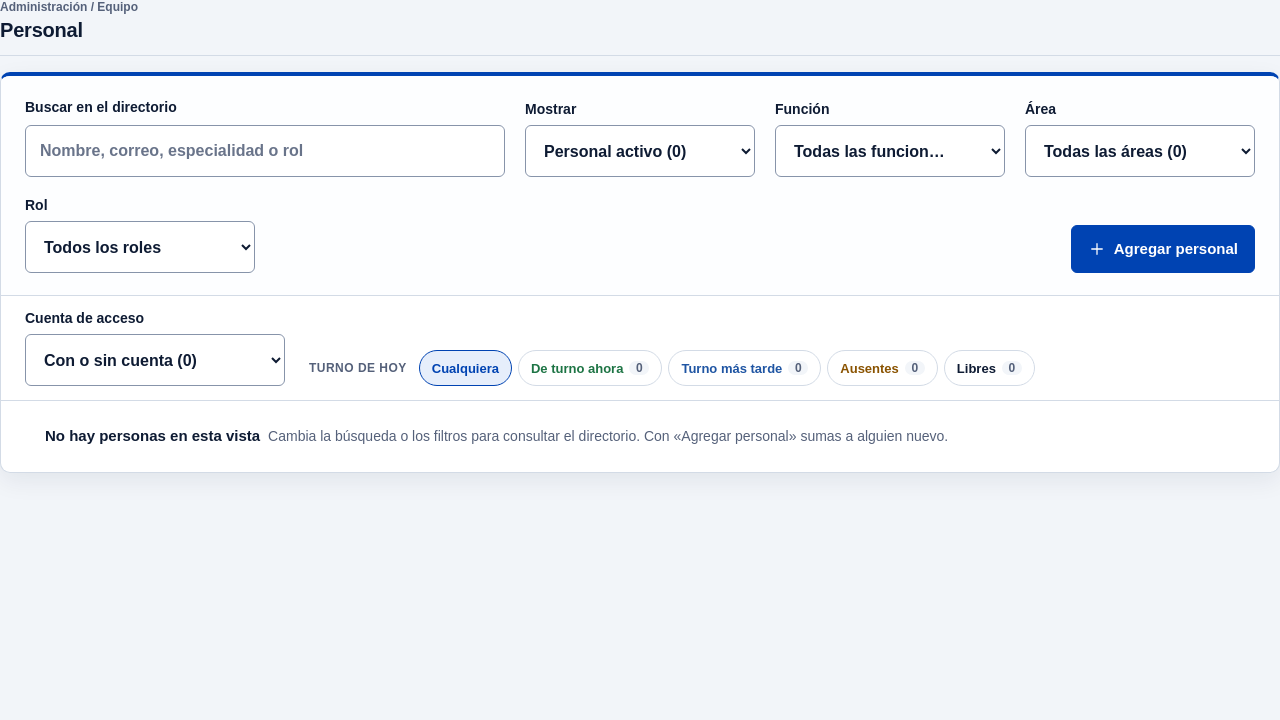
it: G1 · registrar e invitar en un solo acto › cerrar tras el fallo conserva el registro, avisa y la invitación de la fila trae el correo
The image size is (1280, 720).
Step 1. Click the button "Agregar personal" → (1163,249), box [1071,225,1255,273]
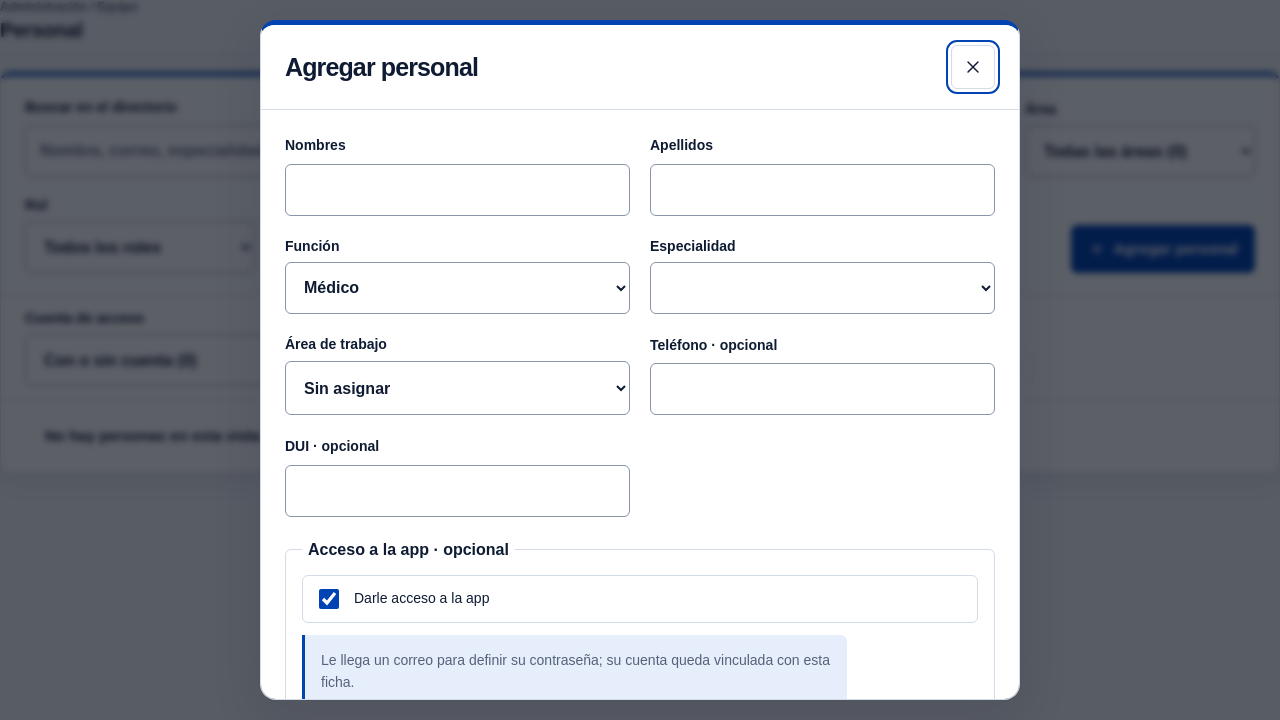
Step 2. Type "Ana" into the field labelled "Nombres" → (458,190), box [285,164,630,216]
Step 3. Type "Pérez Ficticia" into the field labelled "Apellidos" → (822,190), box [650,164,995,216]
(page scrolled)
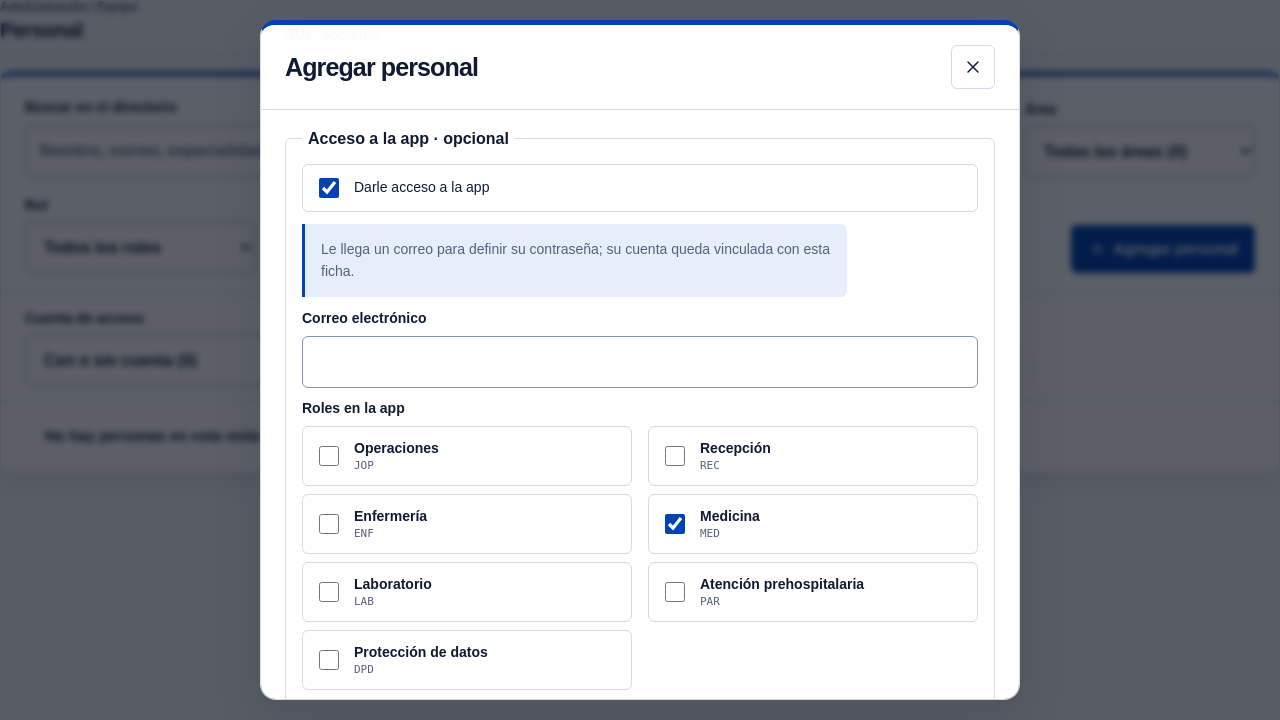
Expected: the checkbox labelled "Darle acceso a la app" is checked, [319,178,339,198]
Step 4. Type "ana@example.test" into the field labelled "Correo electrónico" → (640,362), box [302,336,978,388]
(page scrolled)
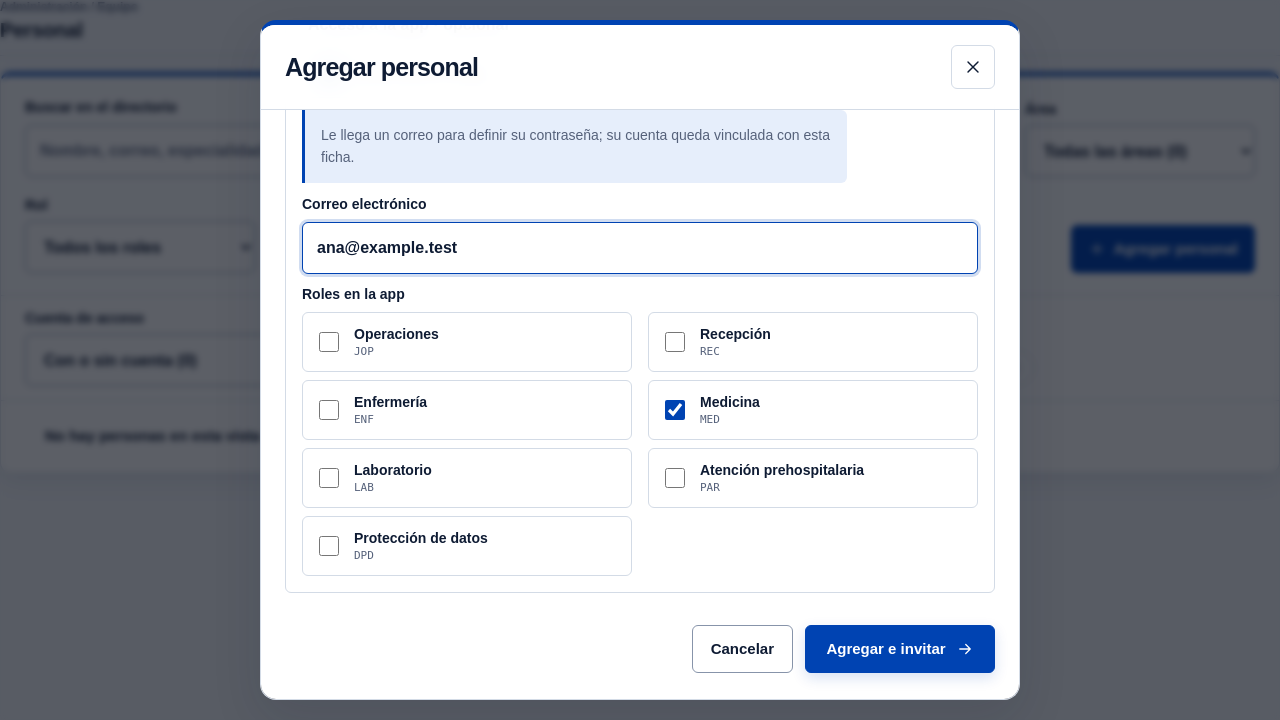
Expected: the checkbox labelled "Medicina MED" is checked, [665,400,685,420]
Step 5. Click the button "Agregar e invitar" → (900,649), box [805,625,995,673]
(page scrolled)
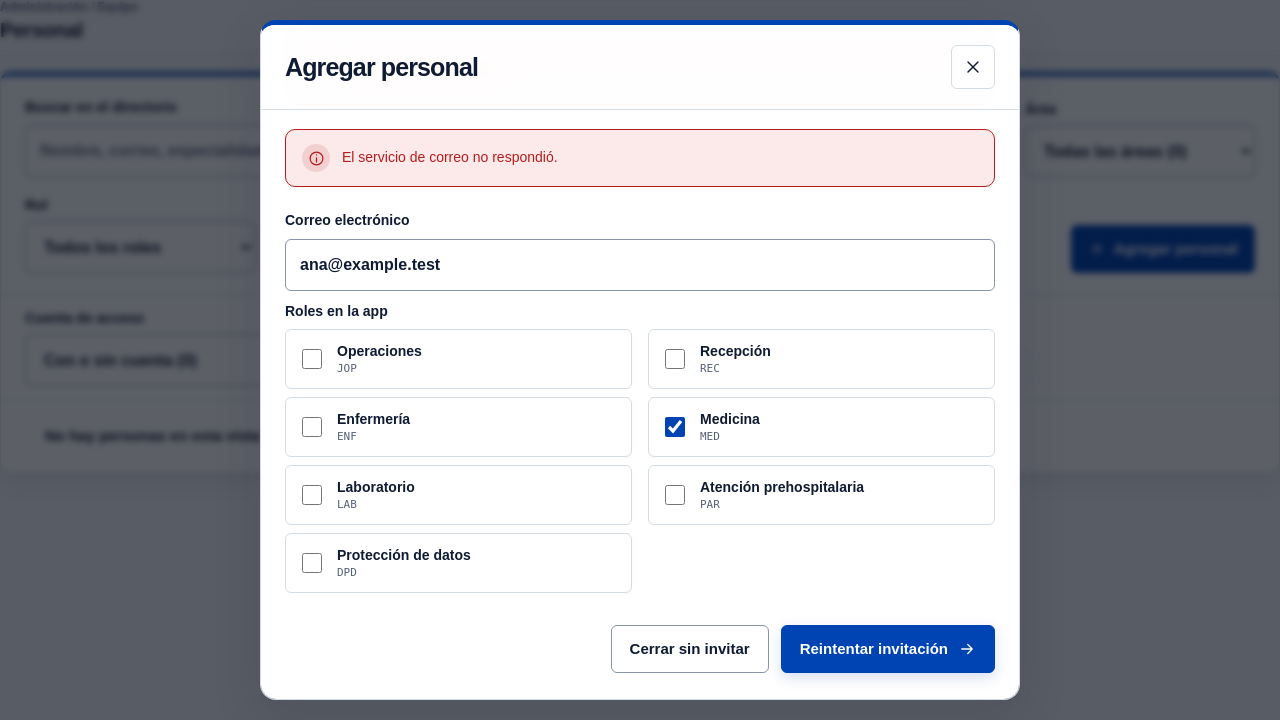
Step 6. Click the button "Cerrar sin invitar" → (690,649), box [611,625,769,673]
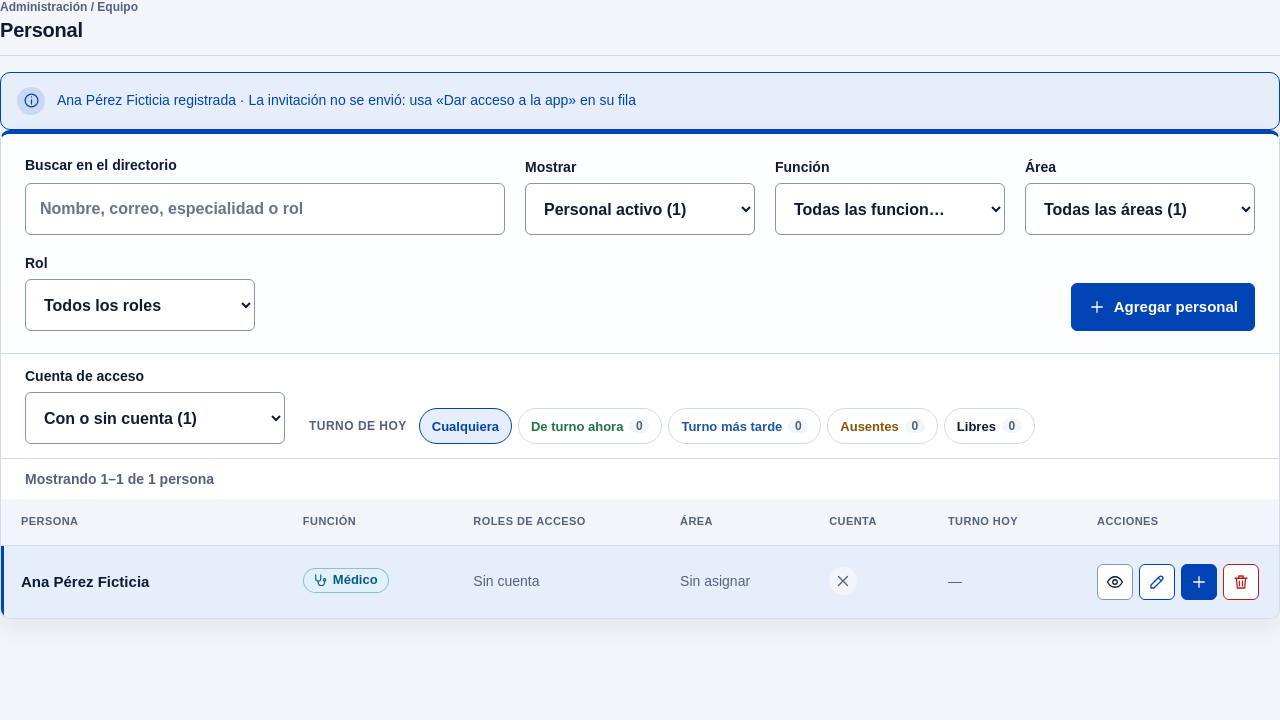
Expected: the text "Ana Pérez Ficticia registrada · La invitación no se envió" is shown, [57,92,636,108]
Step 7. Click the button named "Dar acceso a la app" → (1199,582), box [1181,564,1217,600]
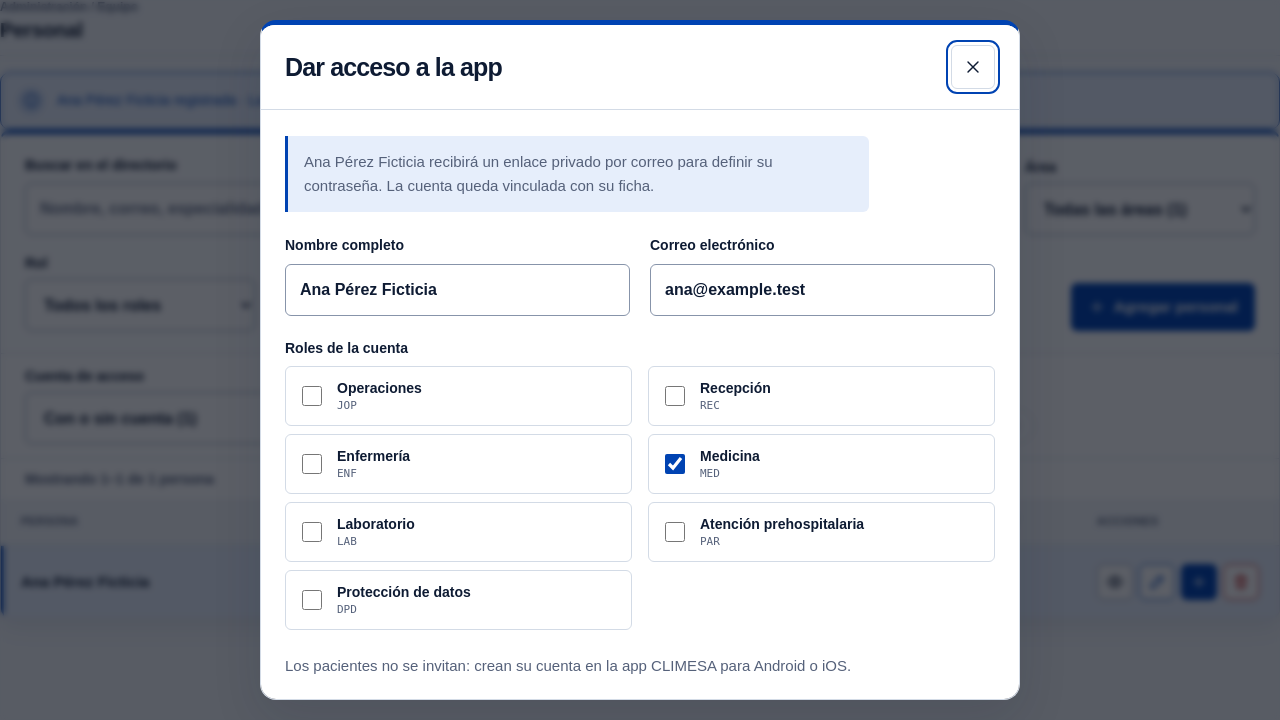
Expected: the field labelled "Correo electrónico" holds "ana@example.test", [650,264,995,316]
